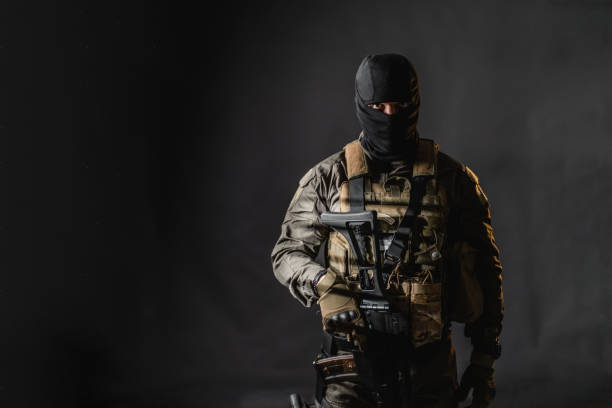terrorist: (298, 29, 477, 217)
